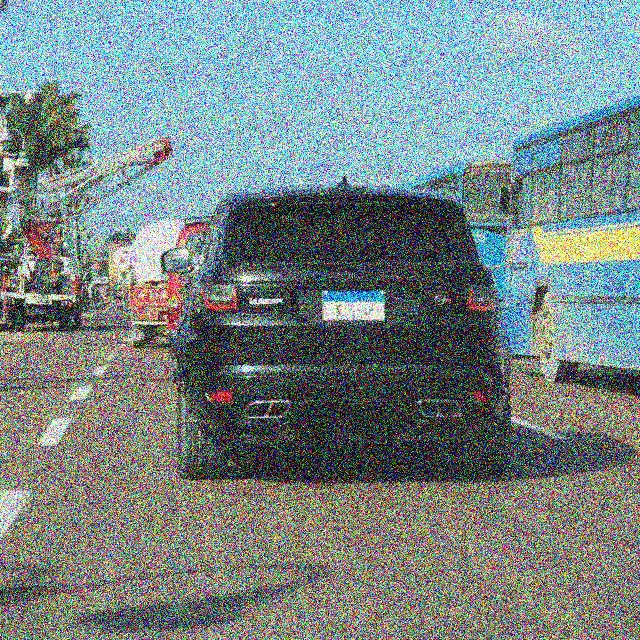License Plate: (321, 287, 386, 322)
